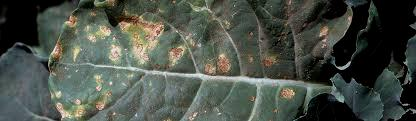Bok-Choy-Diseased: (46, 0, 311, 121)
